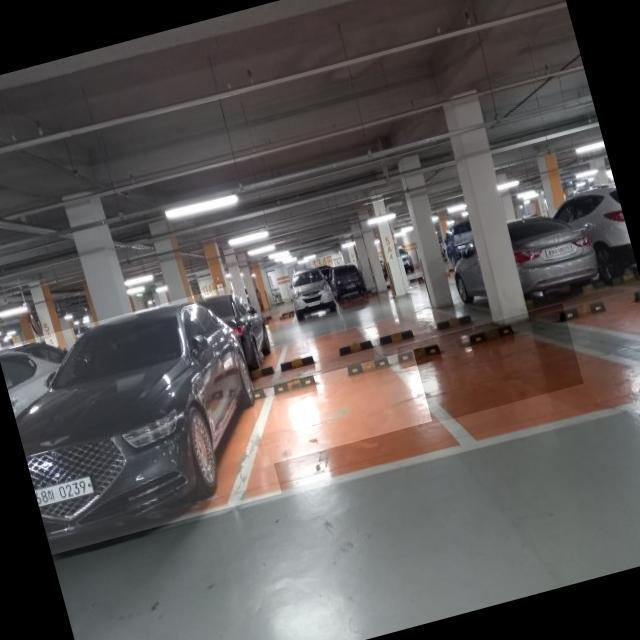empty: (396, 303, 584, 427), (248, 349, 432, 464)
occupied: (0, 287, 281, 555)
